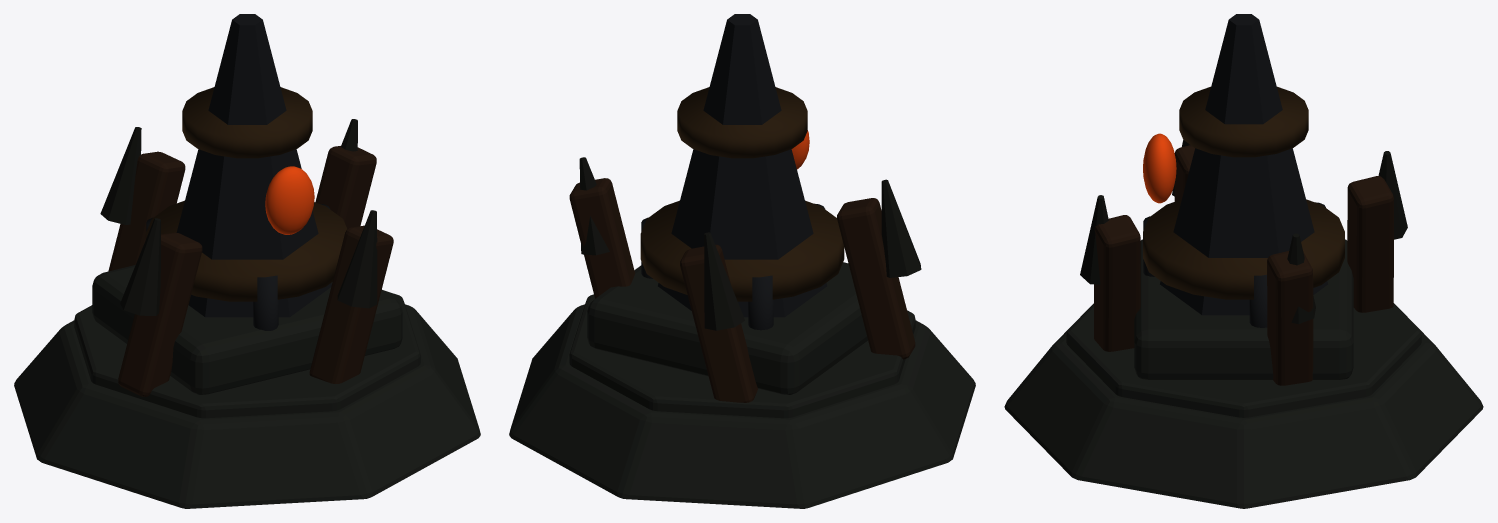
File: TowerCorrupt1_pose.obj
3 views of the same model, side by side, from view 1: azimuth 30°, elevation 25°; view 2: azimuth 150°, elevation 25°; view 3: azimuth 270°, elevation 25° (orthographic).
Parts seen in each view (by area): view 1: weathered_stone_dais_lower_course, dark_obelisk_core, blackstone_foot, weathered_stone_dais_upper_course, bronze_binding_ring, oak_ritual_brace.002, oak_ritual_brace.003, bronze_upper_ring, oak_ritual_brace.001, oak_ritual_brace, amber_runic_heart, bone_ward_spike.003 (+3 smaller); view 2: weathered_stone_dais_lower_course, dark_obelisk_core, blackstone_foot, weathered_stone_dais_upper_course, bronze_binding_ring, oak_ritual_brace.002, bronze_upper_ring, oak_ritual_brace.001, oak_ritual_brace, bone_ward_spike.001, bone_ward_spike.002, iron_tether.001 (+1 smaller); view 3: weathered_stone_dais_lower_course, dark_obelisk_core, blackstone_foot, weathered_stone_dais_upper_course, bronze_binding_ring, oak_ritual_brace.001, oak_ritual_brace.003, bronze_upper_ring, oak_ritual_brace, amber_runic_heart, bone_ward_spike.003, bone_ward_spike.001 (+3 smaller).
Boxes of the visible parts, x1,y1,x2,y2 form: weathered_stone_dais_lower_course: (14,304,480,508); dark_obelisk_core: (176,14,331,317); blackstone_foot: (92,265,402,394); weathered_stone_dais_upper_course: (74,290,420,418); bronze_binding_ring: (145,200,347,301); oak_ritual_brace.002: (118,232,202,396); oak_ritual_brace.003: (309,225,393,383); bronze_upper_ring: (182,87,312,158); oak_ritual_brace.001: (108,151,185,271); oak_ritual_brace: (315,146,376,229); amber_runic_heart: (265,166,314,234); bone_ward_spike.003: (337,210,377,308); weathered_stone_dais_lower_course: (509,304,975,508); dark_obelisk_core: (658,14,826,317); blackstone_foot: (587,262,867,394); weathered_stone_dais_upper_course: (569,294,915,418); bronze_binding_ring: (640,200,844,301); oak_ritual_brace.002: (837,198,915,359); bronze_upper_ring: (677,87,807,158); oak_ritual_brace.001: (680,244,757,402); oak_ritual_brace: (569,178,635,298); bone_ward_spike.001: (704,232,744,330); bone_ward_spike.002: (881,179,921,277); iron_tether.001: (748,275,773,330); weathered_stone_dais_lower_course: (1004,303,1483,508); dark_obelisk_core: (1160,14,1327,315); blackstone_foot: (1134,239,1353,379); weathered_stone_dais_upper_course: (1066,304,1421,417); bronze_binding_ring: (1143,199,1344,299); oak_ritual_brace.001: (1347,176,1393,312); oak_ritual_brace.003: (1094,215,1140,351); bronze_upper_ring: (1179,86,1308,157); oak_ritual_brace: (1267,251,1313,385); amber_runic_heart: (1143,133,1176,203); bone_ward_spike.003: (1080,195,1108,284); bone_ward_spike.001: (1378,151,1407,239).
Size of the model in its own units: 1.71 by 1.53 by 1.71.
